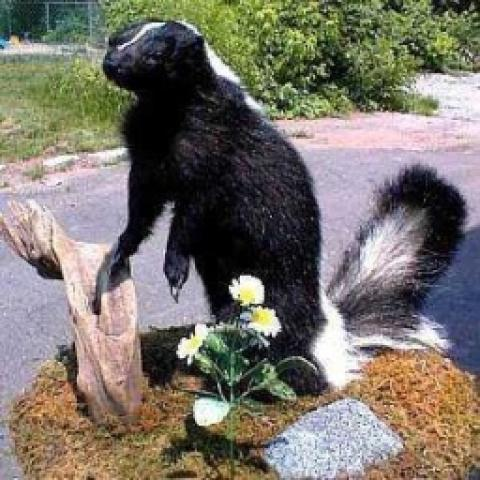small_animal: (100, 18, 467, 406)
